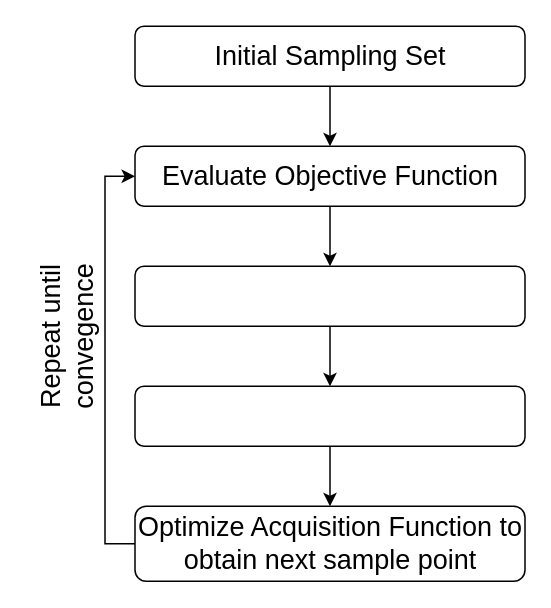
This 551x608 diagram has some shape labels left out. Each missing label, with the centre of its shape:
Build Surrogate Function: [329,295]
Define Acquisition Function: [329,415]
